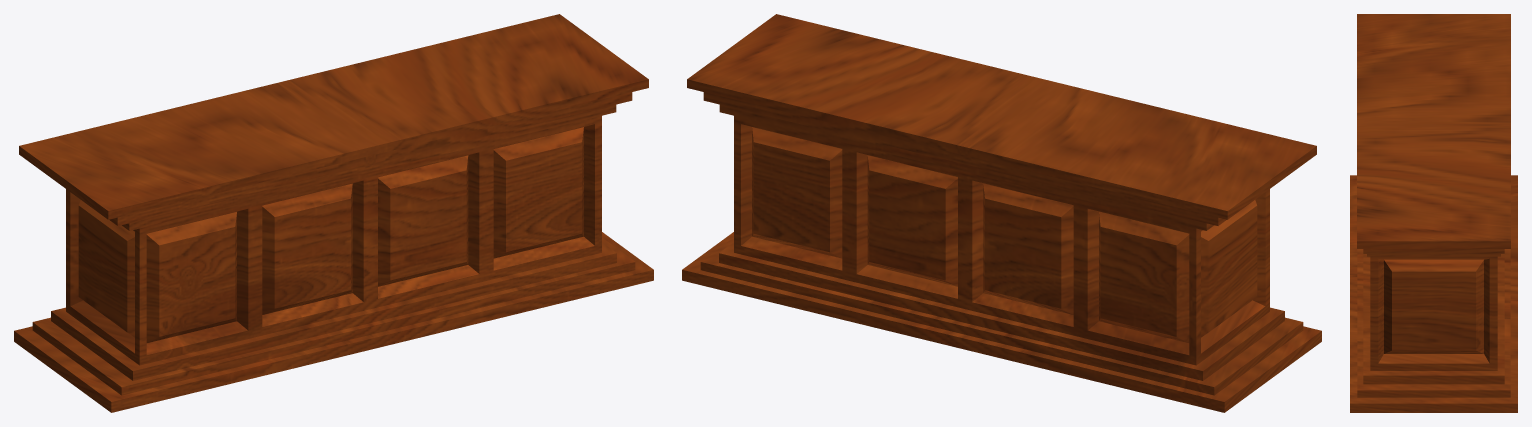
File: Renai_LongDisplayBase.fbx
3 renders of one model, left to right at view 1: azimuth 30°, elevation 25°; view 2: azimuth 150°, elevation 25°; view 3: azimuth 270°, elevation 25°, orthographic. The views are drawn at different scales.
Visible parts, largest first — view 1: longDisplayBase; view 2: longDisplayBase; view 3: longDisplayBase.
Part boxes in pixels (left/top/right/bottom): longDisplayBase: left=14, top=14, right=653, bottom=412; longDisplayBase: left=682, top=14, right=1321, bottom=412; longDisplayBase: left=1350, top=14, right=1517, bottom=412.
Size of the model in its own units: 6.47 by 2.26 by 2.01.
1 material, 1 textured.
